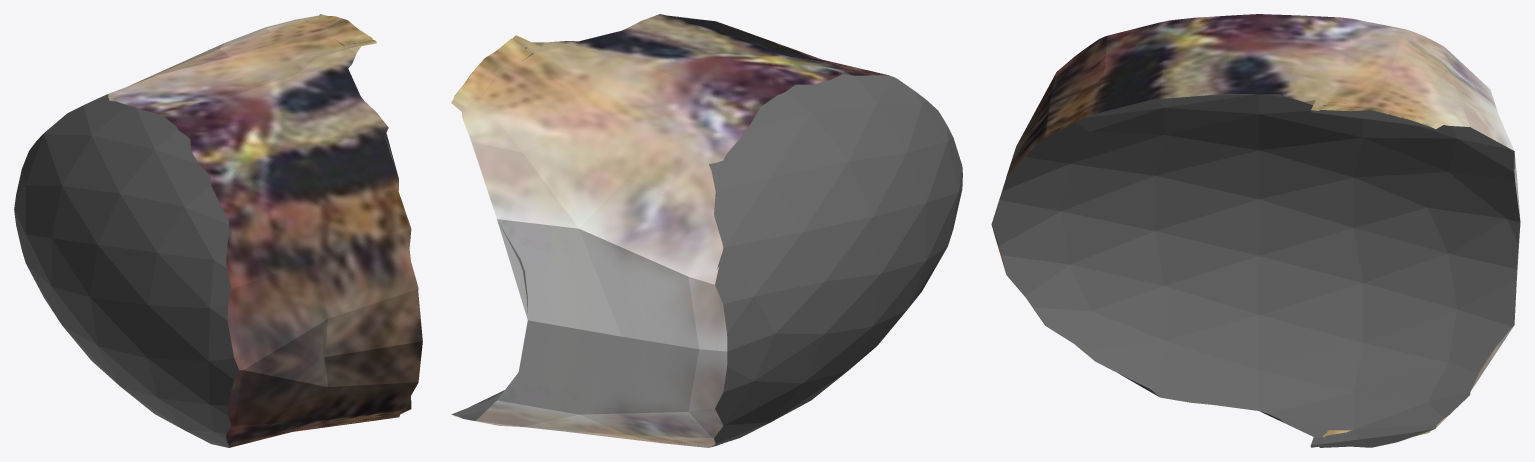
File: link_1_composite.obj
3 renders of one model, left to right at view 1: azimuth 30°, elevation 25°; view 2: azimuth 150°, elevation 25°; view 3: azimuth 270°, elevation 25°, orthographic. The views are drawn at different scales.
Size of the model in its own units: 0.00201 by 0.002 by 0.00284.
Materials: 1 (1 with a texture image).
